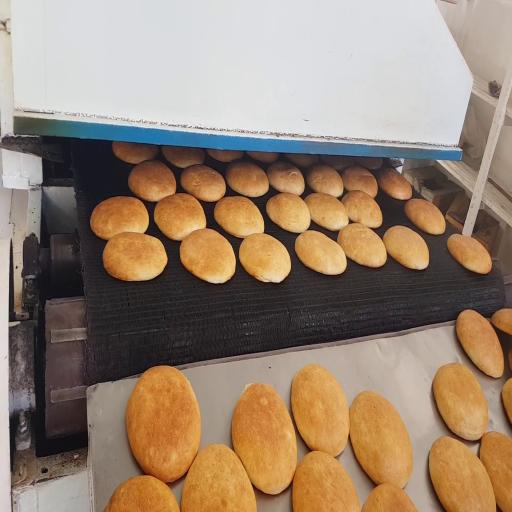bread: (126, 366, 201, 482), (232, 384, 297, 494), (350, 391, 413, 487), (291, 365, 349, 457), (181, 444, 256, 511), (429, 437, 495, 511), (433, 363, 488, 440), (292, 452, 360, 511), (456, 310, 504, 377), (103, 232, 167, 281), (486, 252, 512, 370), (180, 229, 235, 283), (104, 476, 179, 511), (90, 197, 149, 240), (239, 234, 290, 283), (480, 432, 511, 511), (154, 193, 206, 240), (295, 230, 346, 274), (338, 223, 386, 267), (214, 196, 264, 237), (383, 226, 429, 270), (128, 160, 176, 201), (266, 193, 310, 233), (448, 234, 491, 274), (305, 193, 348, 231), (181, 165, 225, 201), (226, 162, 269, 197), (362, 484, 417, 511), (342, 191, 382, 228), (405, 199, 445, 235), (267, 162, 305, 195), (307, 164, 343, 197), (342, 166, 378, 198), (379, 168, 411, 200), (113, 142, 158, 164), (162, 146, 204, 168), (206, 149, 243, 162), (320, 156, 354, 170), (285, 154, 319, 167), (502, 379, 511, 423), (246, 152, 279, 163), (355, 157, 382, 169), (508, 349, 511, 370)
